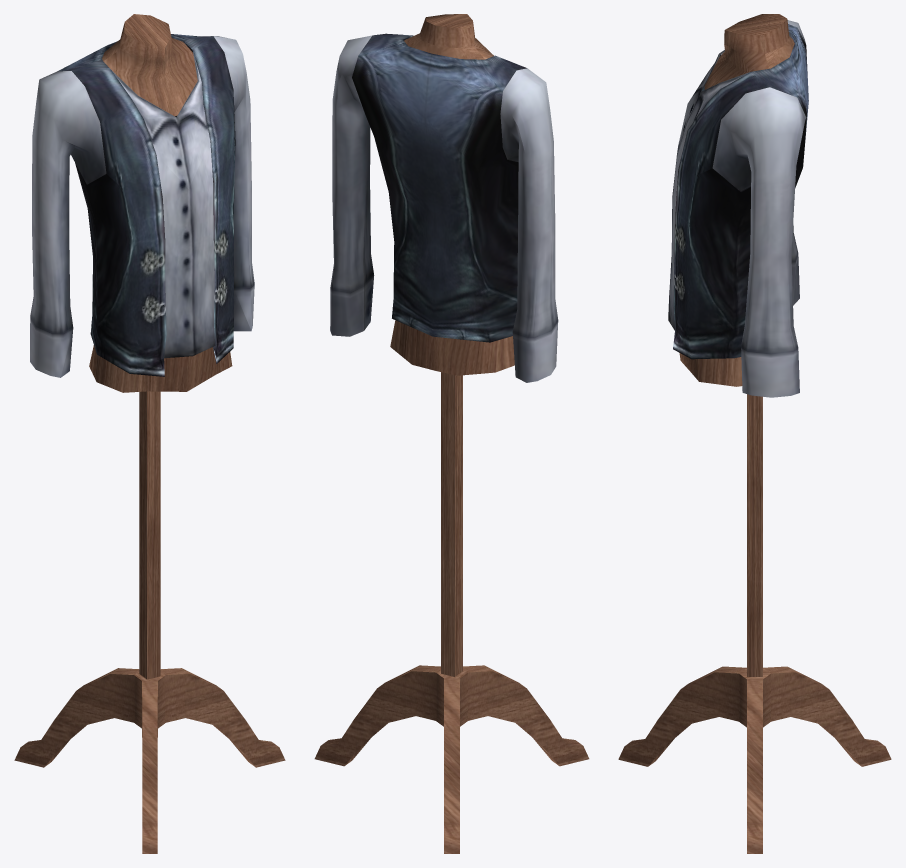
File: shop_tailor_mannequinMaleShirt01.fbx
The picture shows the model from 3 angles, left to right: view 1: azimuth 30°, elevation 25°; view 2: azimuth 150°, elevation 25°; view 3: azimuth 270°, elevation 25°; orthographic projection.
Visible parts, largest first — view 1: shirt_vest, shirt_sleeves, shirt_center, coatRack_feet, dummy_torso, coatRack_pole; view 2: shirt_vest, shirt_sleeves, coatRack_feet, dummy_torso, coatRack_pole; view 3: shirt_vest, shirt_sleeves, coatRack_feet, dummy_torso, coatRack_pole, shirt_center.
Part boxes in pixels (<box>): shirt_vest: <box>58,34,235,376</box>; shirt_sleeves: <box>30,36,254,377</box>; shirt_center: <box>112,52,215,358</box>; coatRack_feet: <box>14,668,285,853</box>; dummy_torso: <box>89,14,232,392</box>; coatRack_pole: <box>139,391,160,679</box>; shirt_vest: <box>352,33,526,342</box>; shirt_sleeves: <box>330,35,558,382</box>; coatRack_feet: <box>314,665,589,853</box>; dummy_torso: <box>390,14,514,375</box>; coatRack_pole: <box>441,372,462,676</box>; shirt_vest: <box>673,24,808,359</box>; shirt_sleeves: <box>712,20,806,397</box>; coatRack_feet: <box>618,666,891,853</box>; dummy_torso: <box>679,14,794,386</box>; coatRack_pole: <box>747,394,762,676</box>; shirt_center: <box>668,50,749,330</box>.
Size of the model in its own units: 161 by 495 by 159.
Materials: 1 (1 with a texture image).
